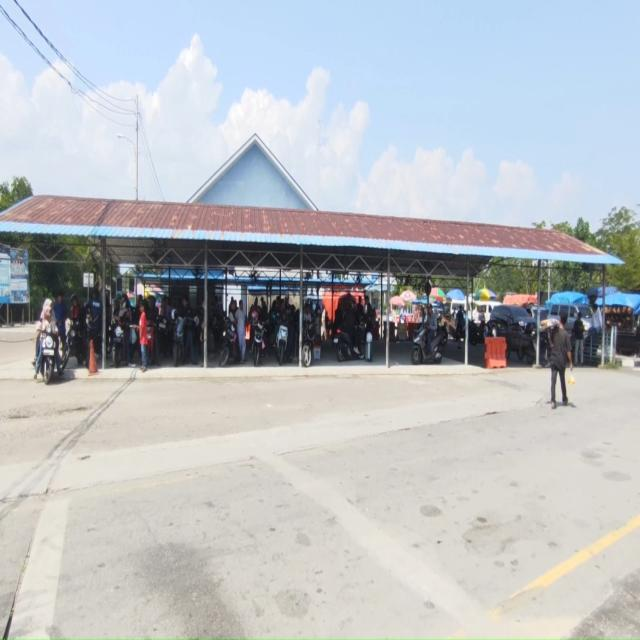Golongan II: (411, 324, 447, 364), (173, 312, 199, 367), (333, 324, 366, 362), (61, 319, 85, 370), (219, 318, 240, 367), (40, 324, 56, 384), (112, 318, 130, 368), (155, 316, 174, 357), (302, 320, 316, 368), (251, 321, 265, 366), (462, 320, 486, 346), (276, 324, 289, 366), (539, 329, 551, 368)
